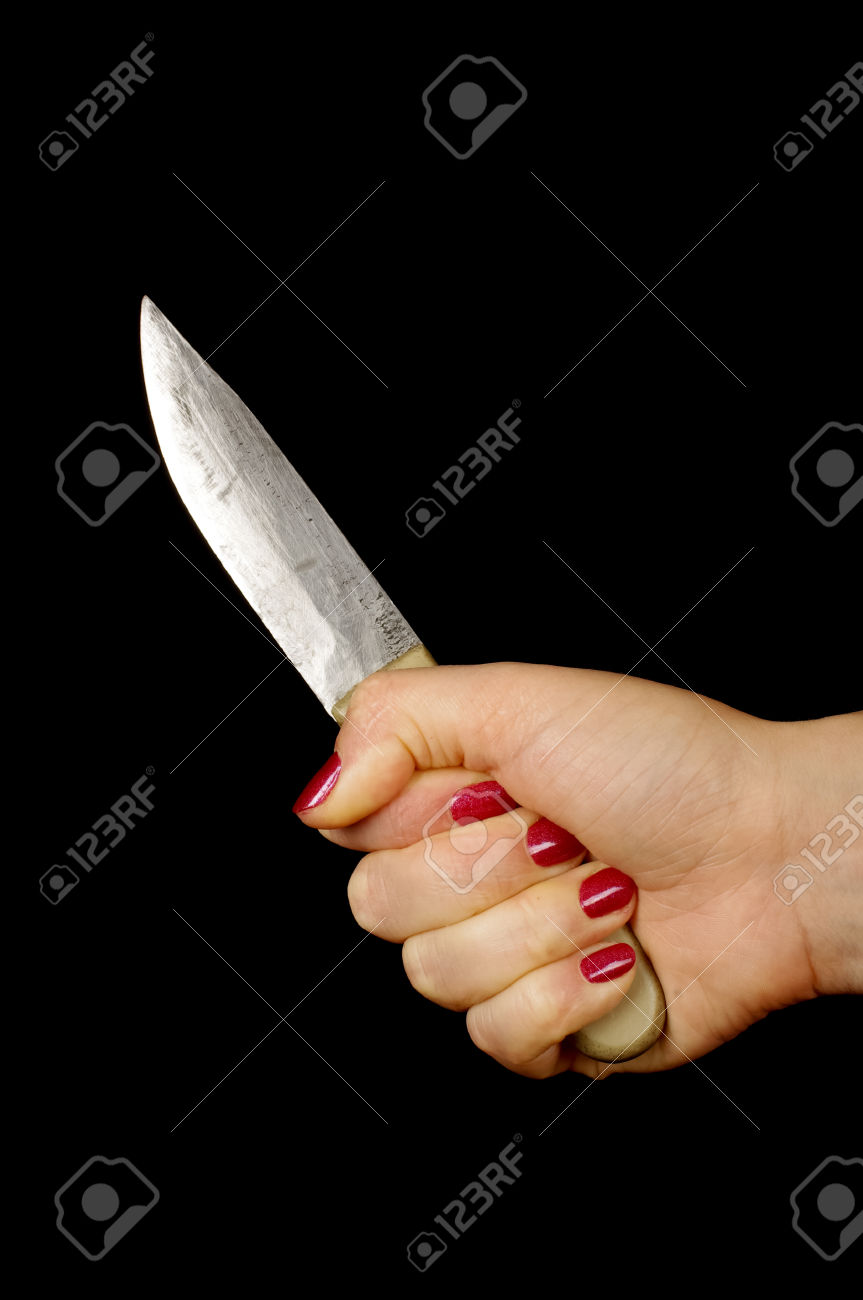knife: (125, 281, 669, 1068)
